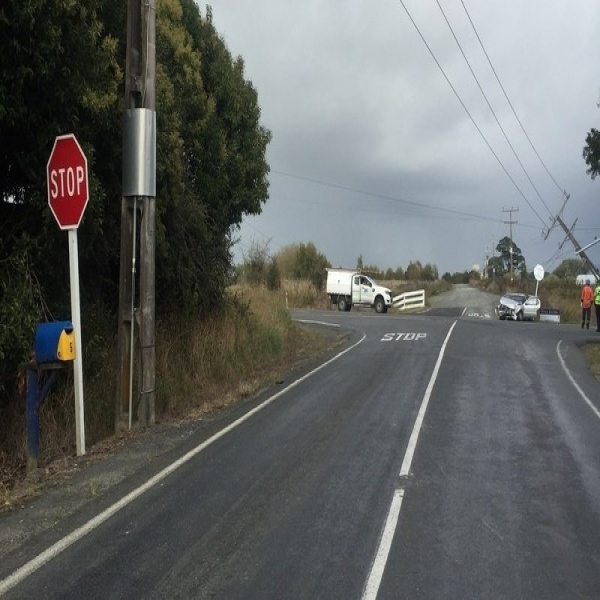stop: (44, 135, 100, 235)
